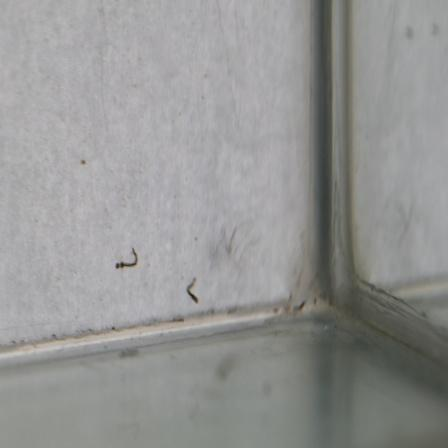Jentik-Nyamuk: (110, 243, 141, 276), (184, 276, 204, 307)
